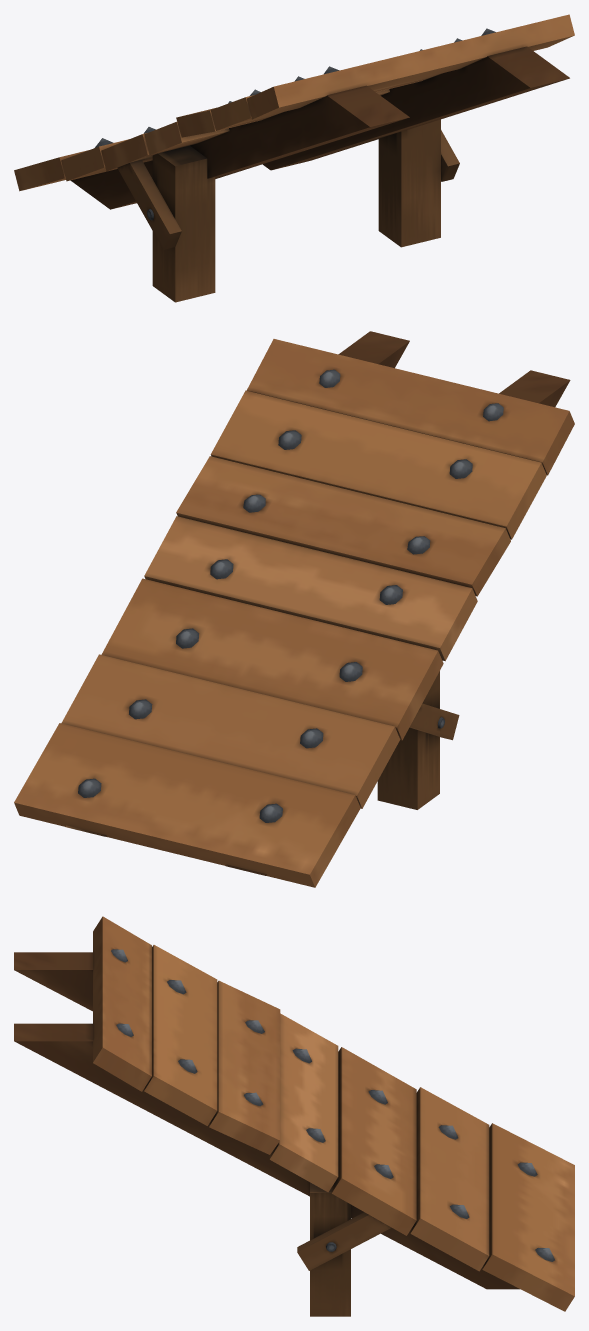
File: Chemin_Pont_Montee.FBX
The picture shows the model from 3 angles, top to bottom: view 1: azimuth 30°, elevation 25°; view 2: azimuth 150°, elevation 25°; view 3: azimuth 270°, elevation 25°; orthographic projection. The views are drawn at different scales.
Parts seen in each view (by area): view 1: Chemin_Montee; view 2: Chemin_Montee; view 3: Chemin_Montee.
Boxes of the visible parts, <box> form: Chemin_Montee: <box>14,14,574,302</box>; Chemin_Montee: <box>14,331,574,887</box>; Chemin_Montee: <box>14,916,574,1316</box>.
Bounding box in the file's own units: 3.94 × 3.85 × 7.11.
